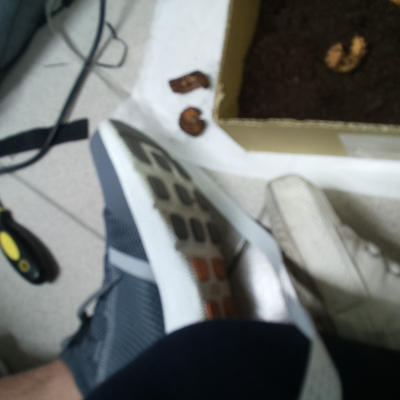eggs: (319, 29, 371, 78)
